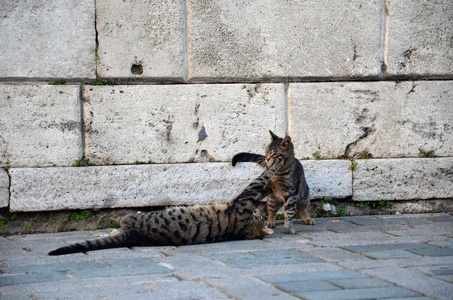cat: (48, 156, 284, 256), (232, 130, 315, 235)
